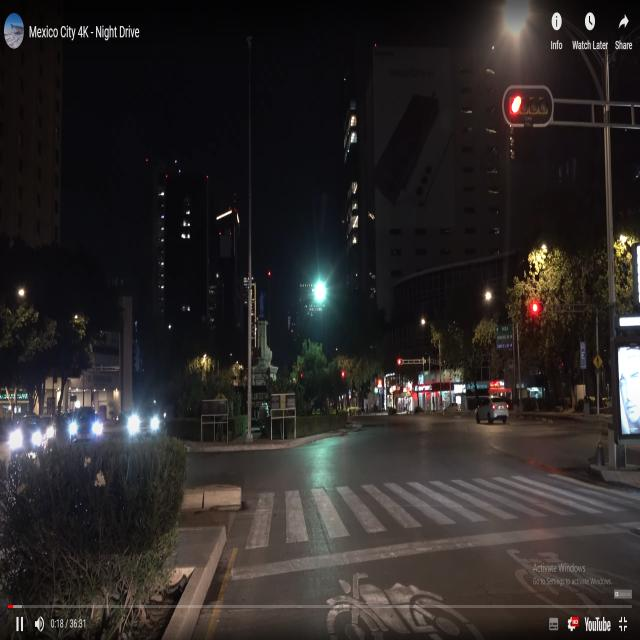headlights: (120, 407, 166, 443), (8, 425, 48, 455), (61, 418, 107, 440)
